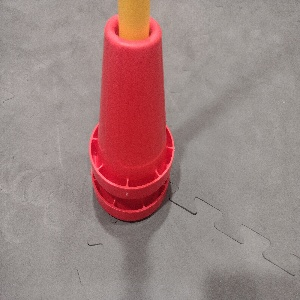Red_2: (89, 12, 174, 224)
